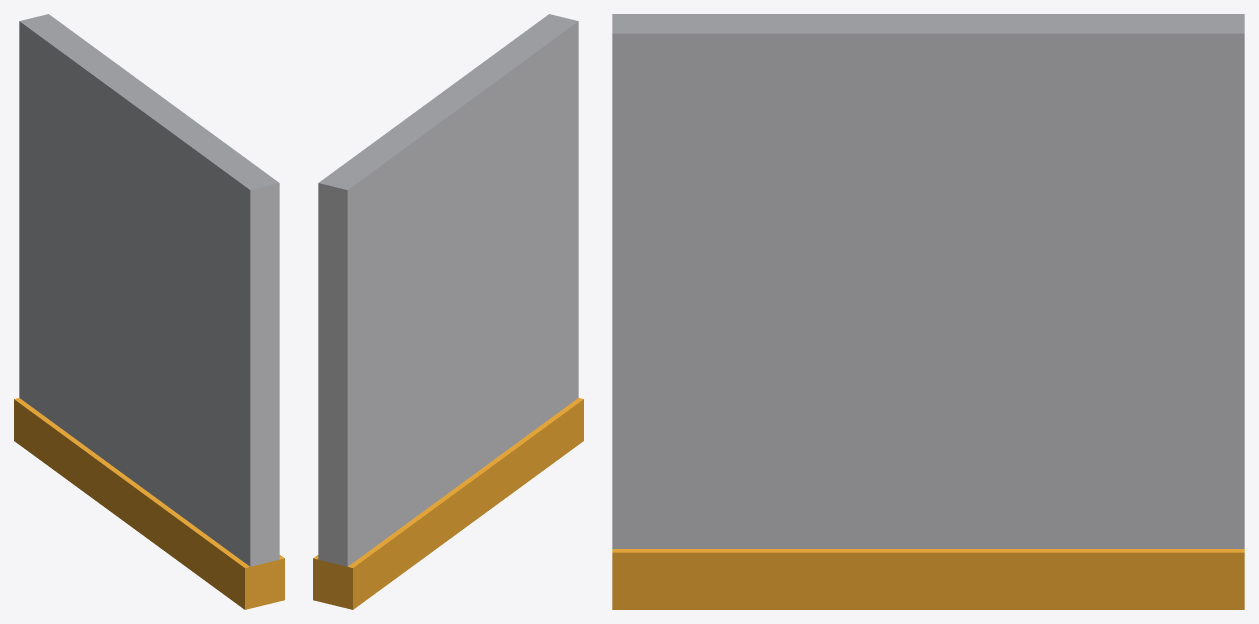
File: wall.fbx
3 views of the same model, side by side, from view 1: azimuth 30°, elevation 25°; view 2: azimuth 150°, elevation 25°; view 3: azimuth 270°, elevation 25° (orthographic). The views are drawn at different scales.
Visible parts, largest first — view 1: wall; view 2: wall; view 3: wall.
Part boxes in pixels (left/top/right/bottom): wall: left=14, top=14, right=284, bottom=609; wall: left=313, top=14, right=583, bottom=609; wall: left=612, top=14, right=1244, bottom=609.
Bounding box in the file's own units: 30 × 300 × 300.
1 material, 1 textured.
